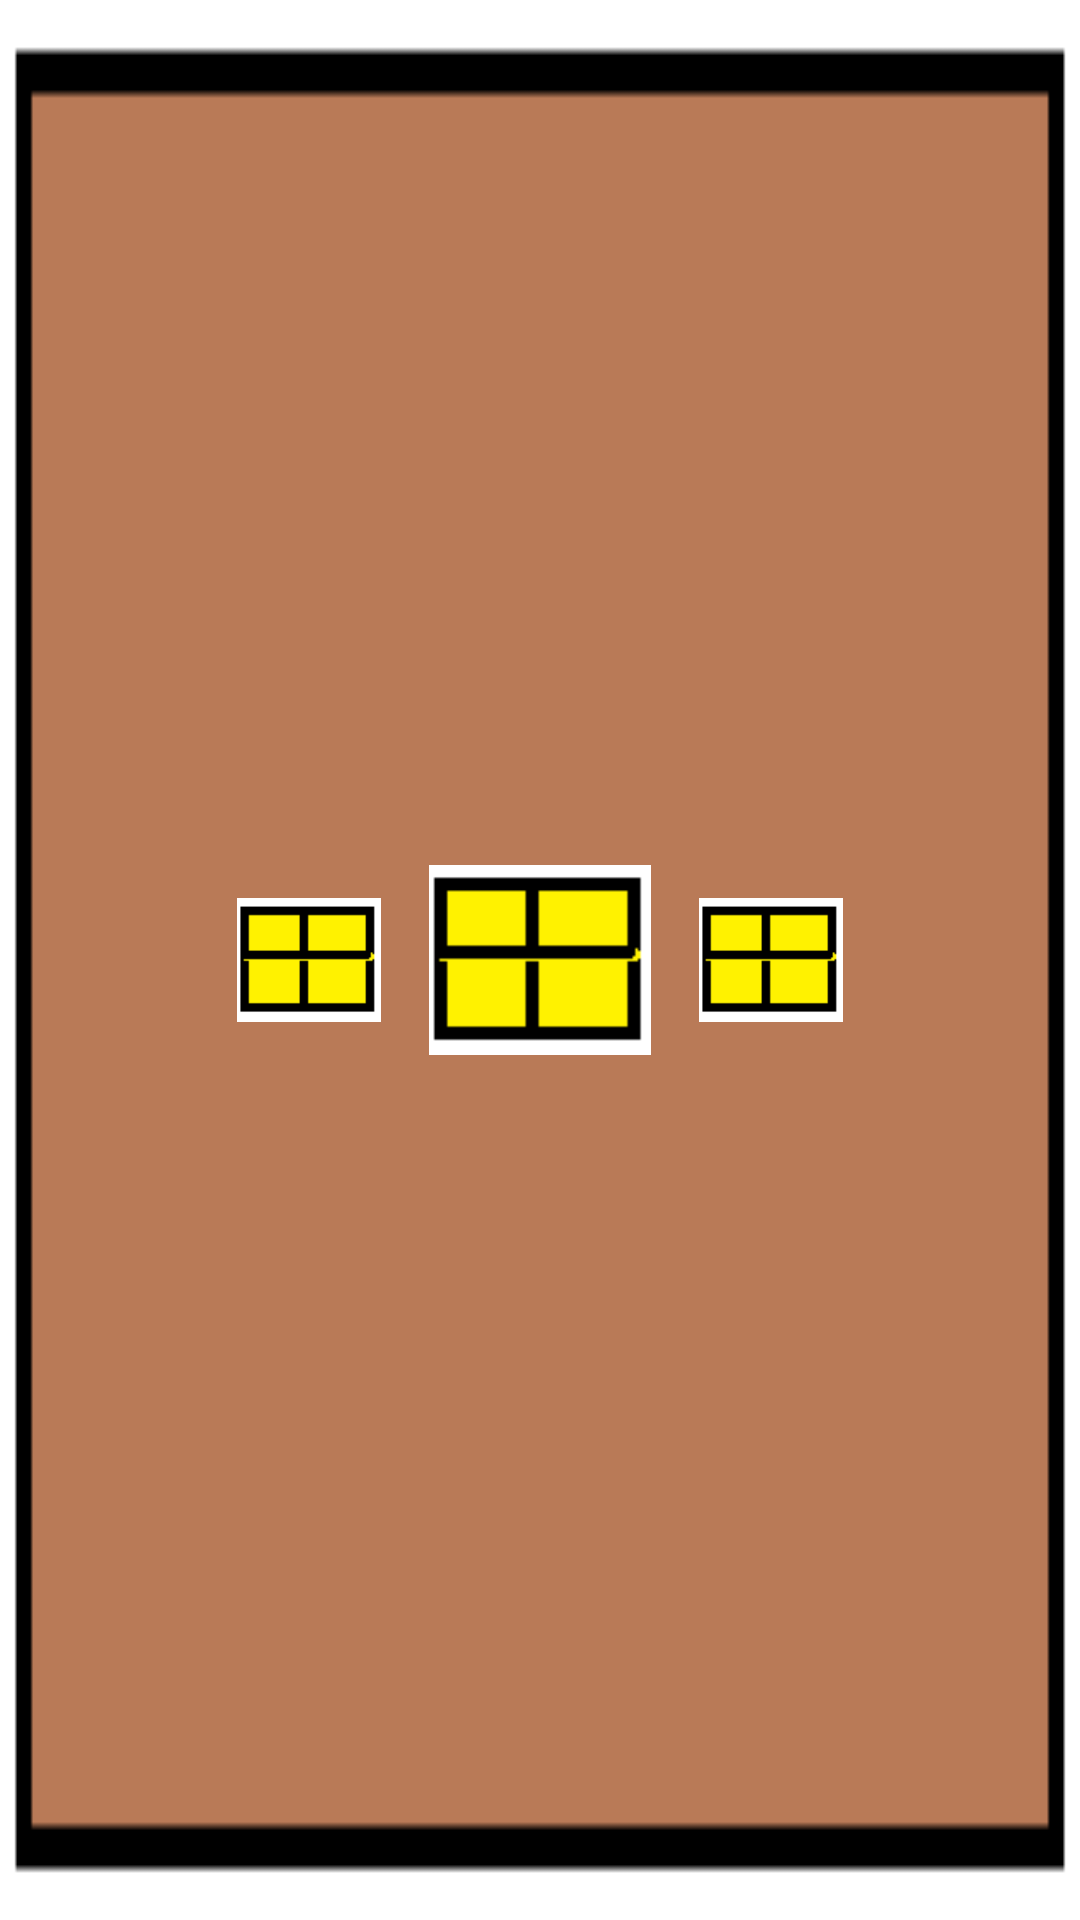

Where icons sit on this 1080w x 1920h app screen, as (x1, y1, x2, y2):
window: (429, 865, 651, 1055), (237, 898, 381, 1022), (699, 898, 843, 1022)
